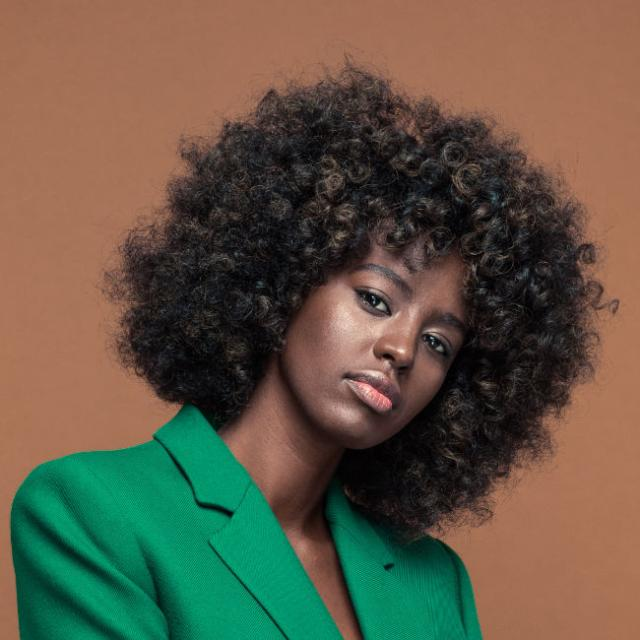sem_oculos: (319, 229, 469, 366)
